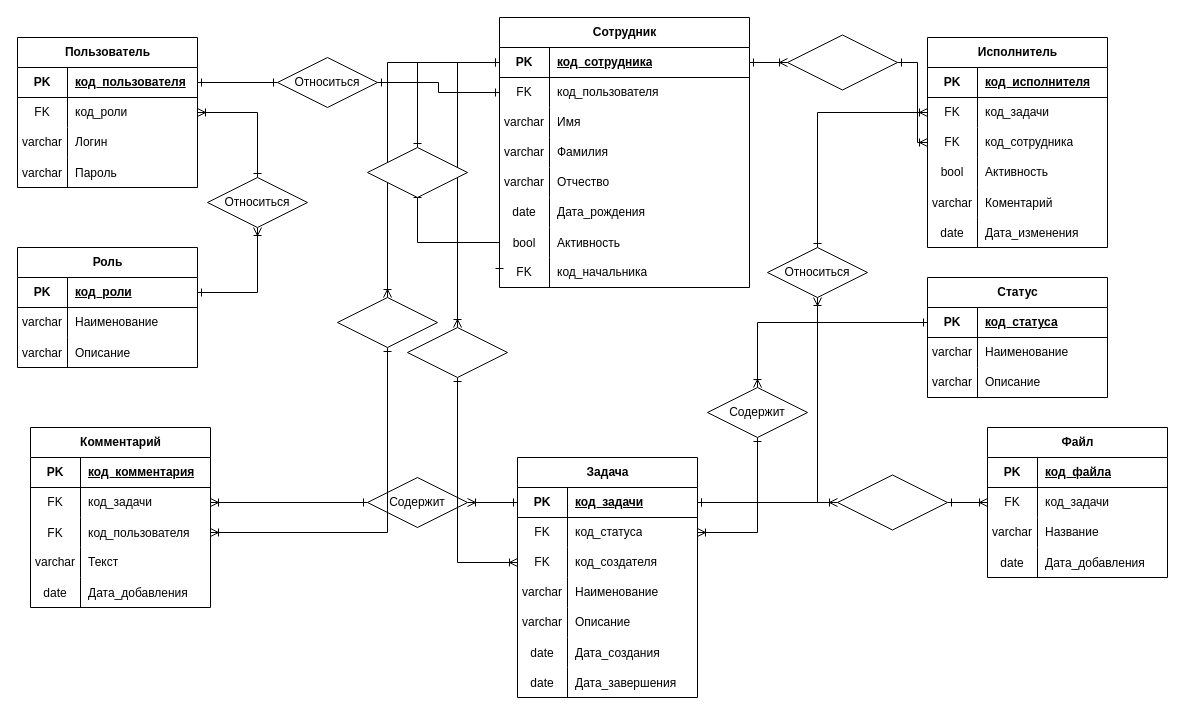
The diagram is 1185 pixels wide and 715 high, and some of its shapes have lost their labels. Each missing label, with the centre of its shape:
"Назначает" goes at point (417, 172).
"Назначается" goes at point (842, 62).
"Написать" goes at point (387, 322).
"Прикрепляется" goes at point (892, 502).
"Создает" goes at point (457, 352).
